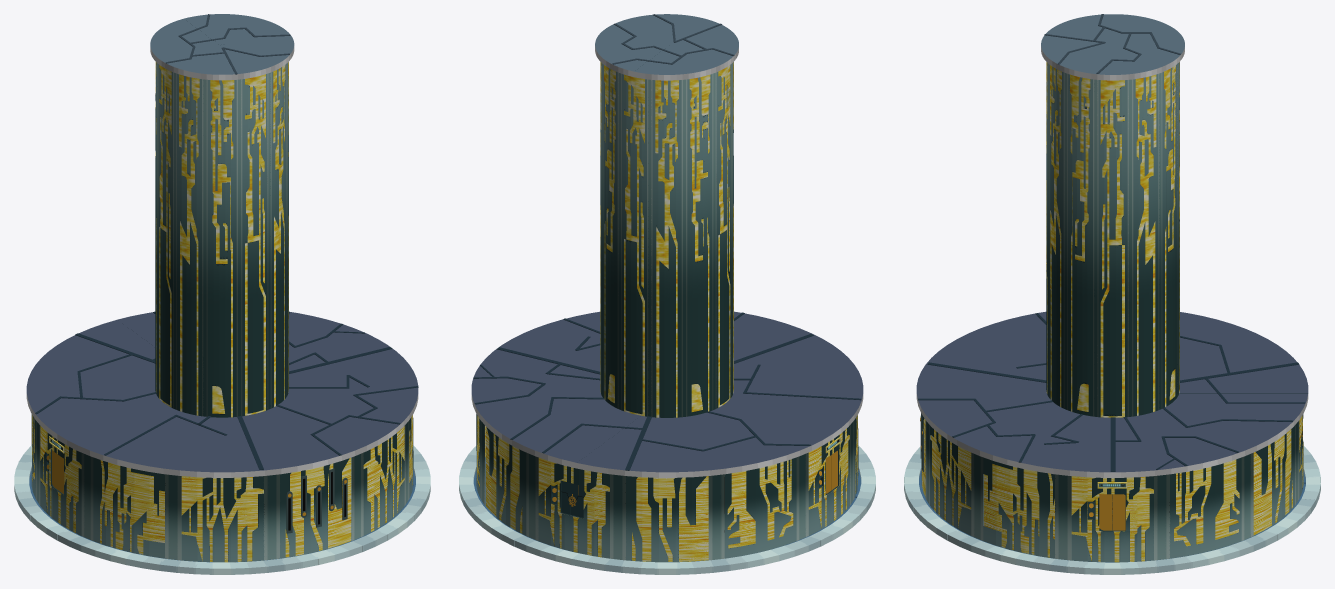
The model's file is Supercomputer_MrQuantum_.obj.
The picture shows the model from 3 angles, left to right: view 1: azimuth 30°, elevation 25°; view 2: azimuth 150°, elevation 25°; view 3: azimuth 270°, elevation 25°; orthographic projection.
Visible parts, largest first — view 1: cube; view 2: cube; view 3: cube.
Part boxes in pixels (x1,y1,x2,y2): cube: [14, 14, 430, 574]; cube: [459, 14, 875, 574]; cube: [904, 14, 1320, 574].
Size of the model in its own units: 5.27 by 6.2 by 5.27.
Materials: 17 (16 with a texture image).
